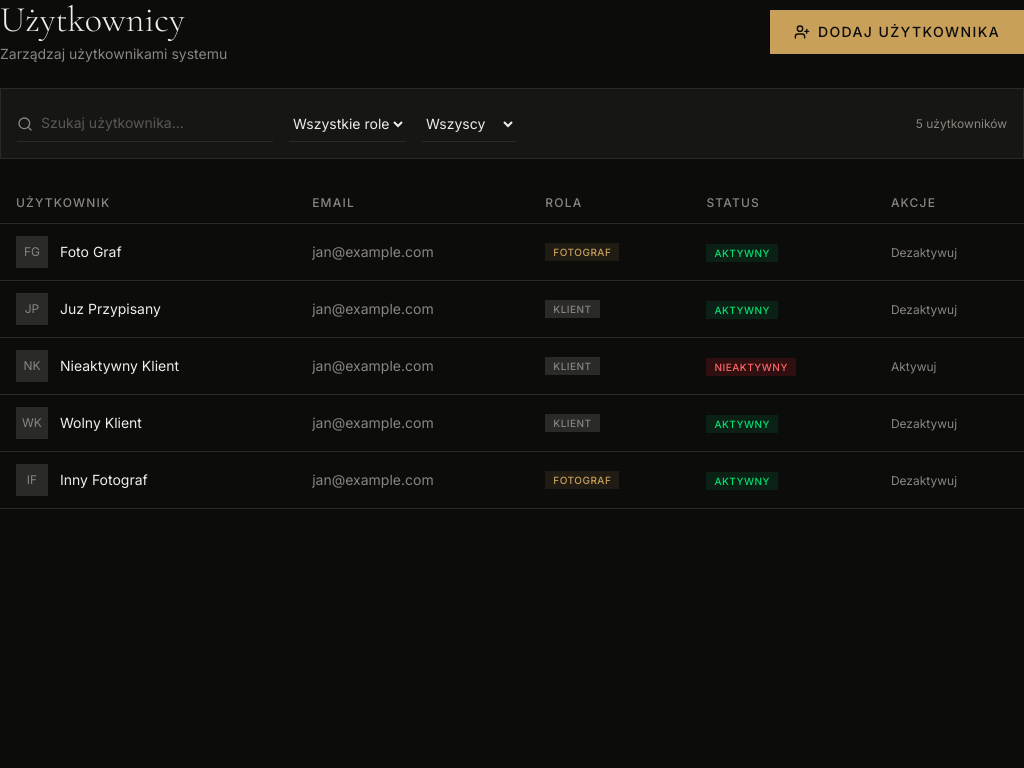
Test: AdminUsers › The assign dialog offers only active clients that are not assigned yet, so nobody is offered twice or while blocked
Click the text "Foto Graf" at (91, 252), box [60,242,122,262]
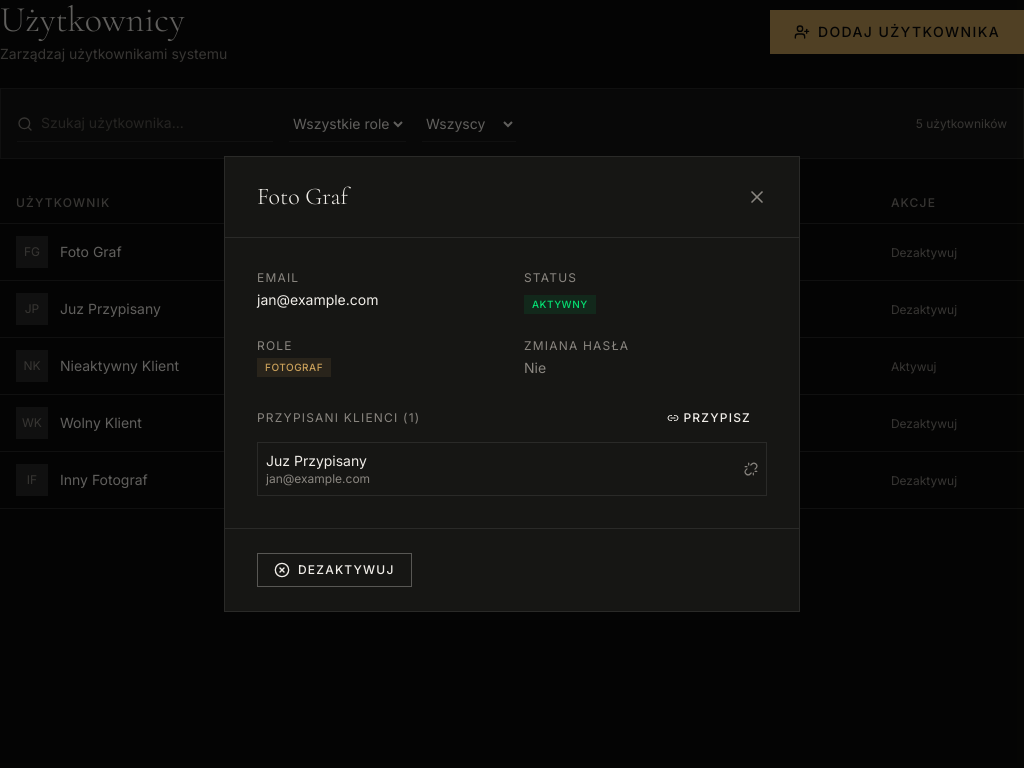
Click the button "Przypisz" at (709, 418), box [652,402,767,434]
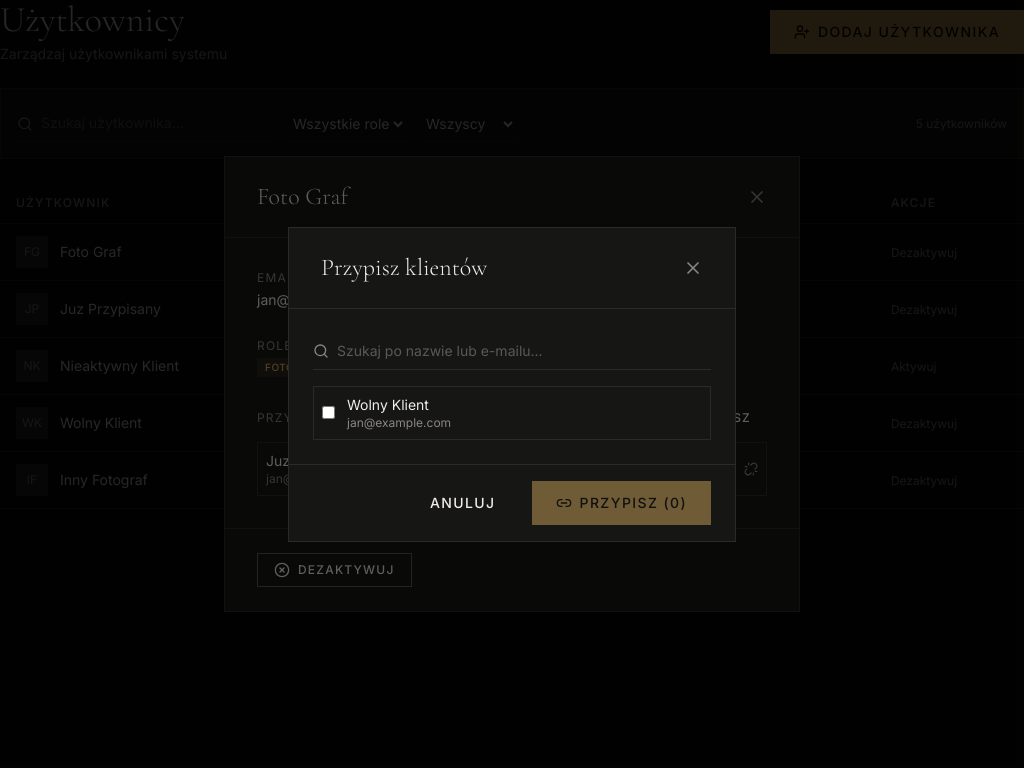
Result: the text "Wolny Klient" is shown at [347,396,429,412]
